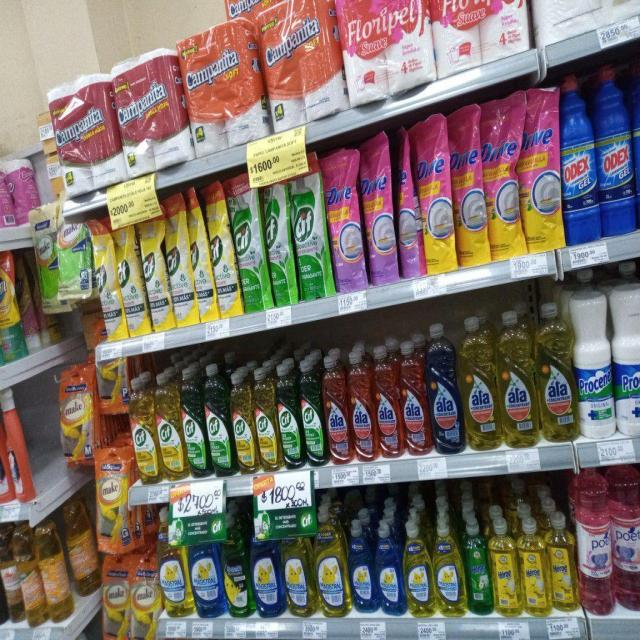ala_conc_amarillo: (538, 298, 576, 443), (499, 307, 536, 448), (462, 314, 498, 451)
ala_conc_azul: (429, 322, 462, 455)
ala_conc_rojo: (401, 335, 428, 457), (374, 344, 400, 460), (349, 346, 374, 463), (324, 352, 349, 466)
cif_conc_bot_amarilla: (130, 371, 156, 485), (157, 369, 182, 481), (231, 368, 255, 475), (255, 366, 277, 473)
cif_conc_botella_verde: (205, 363, 231, 477), (300, 358, 324, 467), (182, 365, 205, 478), (278, 361, 300, 469)
cif_conc_sachet_verde: (296, 159, 330, 301), (238, 173, 267, 312), (268, 176, 295, 306)
heroe: (491, 516, 519, 616), (466, 517, 490, 616)
magistral_con_amarillo: (158, 507, 190, 618), (316, 510, 348, 618), (434, 512, 464, 617), (404, 516, 433, 616), (284, 528, 314, 617)
magistral_con_azul: (252, 512, 282, 618), (191, 522, 222, 617), (376, 520, 402, 615), (349, 519, 374, 614)
